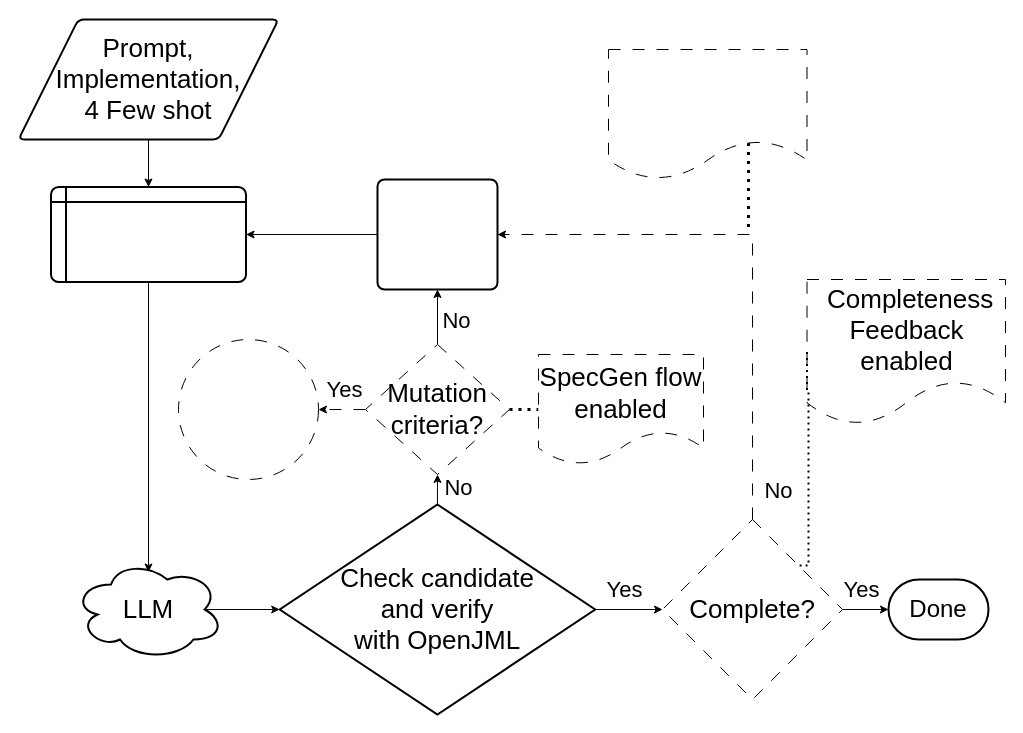
Image size: 1023x733. Some labels were removed from this diagram. Here are the shapes that lost their labels. From the top down, the box of each, then its label:
(608, 48, 807, 180): Correct but not Complete Specification
(50, 186, 246, 282): Conversation History
(376, 178, 498, 290): Simple error feedback
(178, 338, 318, 480): SpecGen Mutation Phase
